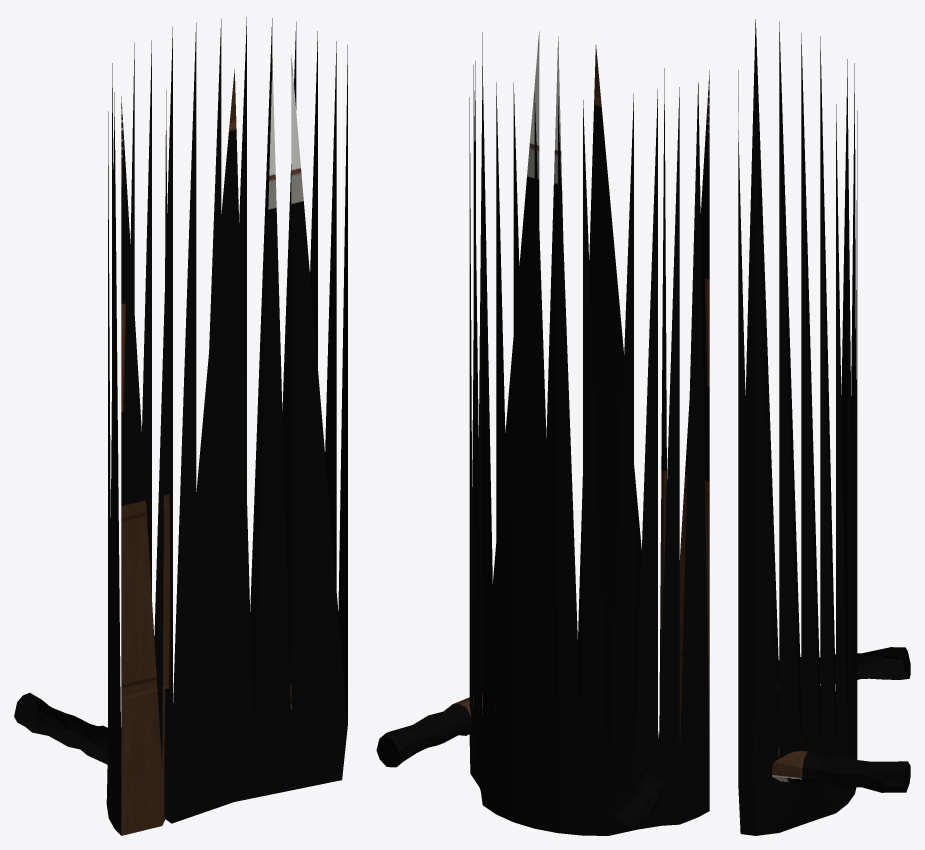
3 views of the same model, side by side, from view 1: azimuth 30°, elevation 25°; view 2: azimuth 150°, elevation 25°; view 3: azimuth 270°, elevation 25° (orthographic). The views are drawn at different scales.
Size of the model in its own units: 0.6525 by 1.71 by 0.3715.
